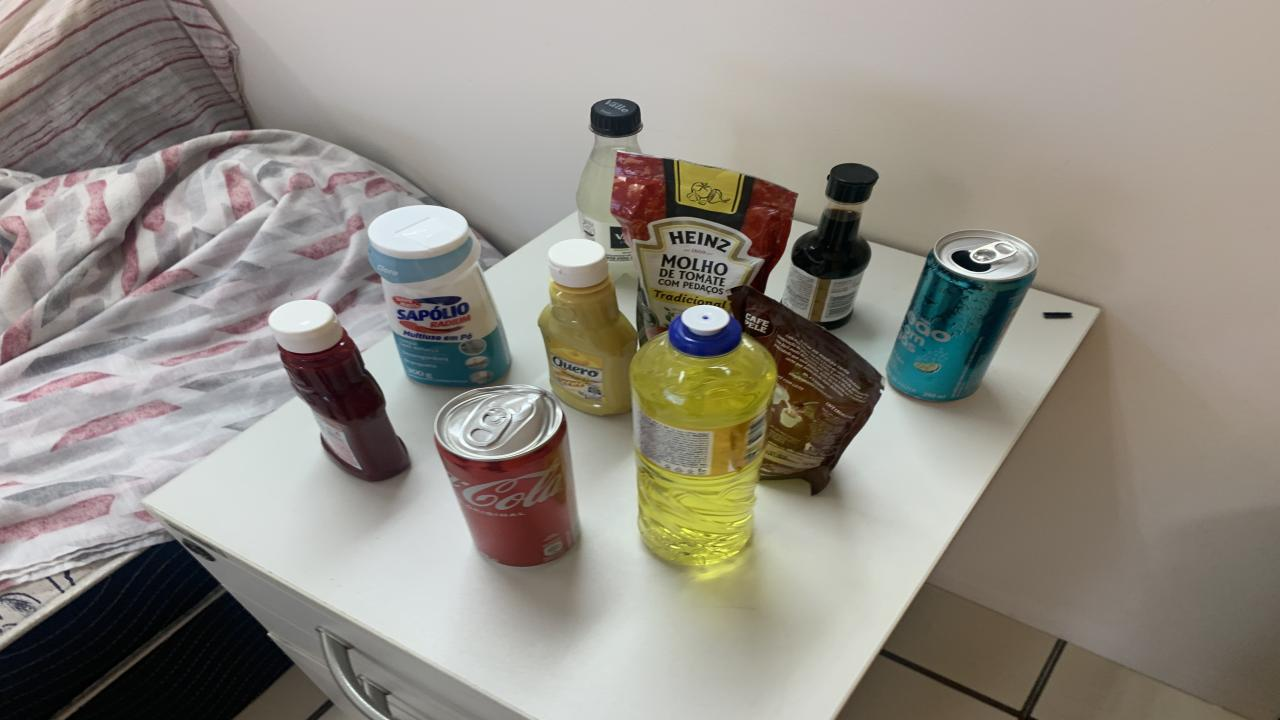Cleaner-Cleanup_Items: (368, 204, 510, 388)
Coffee-Pantry_Items: (730, 285, 882, 493)
Coke-Drinks: (435, 384, 580, 566)
Detergent-Cleanup_Items: (630, 306, 778, 564)
English_Sauce-Pantry_Items: (782, 163, 878, 330)
Ketchup-Pantry_Items: (270, 300, 410, 480)
Mustard-Pantry_Items: (538, 238, 638, 414)
Soda-Drinks: (575, 99, 642, 278)
Tea-Drinks: (888, 229, 1038, 401)
Tomato_Sauce-Pantry_Items: (610, 152, 798, 343)
